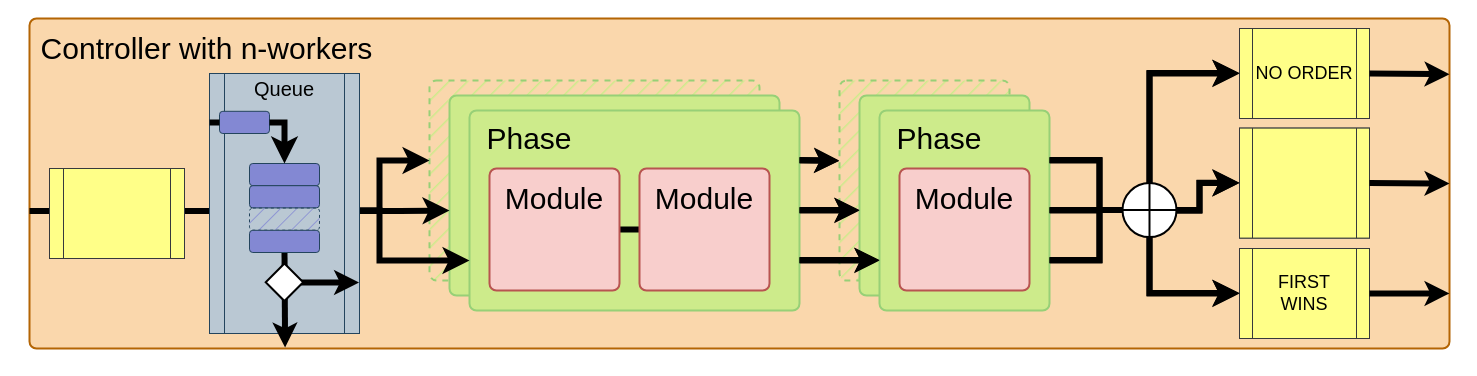
Image size: 1477x376. Some labels were removed from this diagram. The shapes that lost their labels are listed below. From the top down, each one's centre as x and y in pixels, then its label:
At point 1304,182: "ORDER BY SEQUENCE or NOT PARALLEL".
At point 116,213: "Add Sequence-Number".
